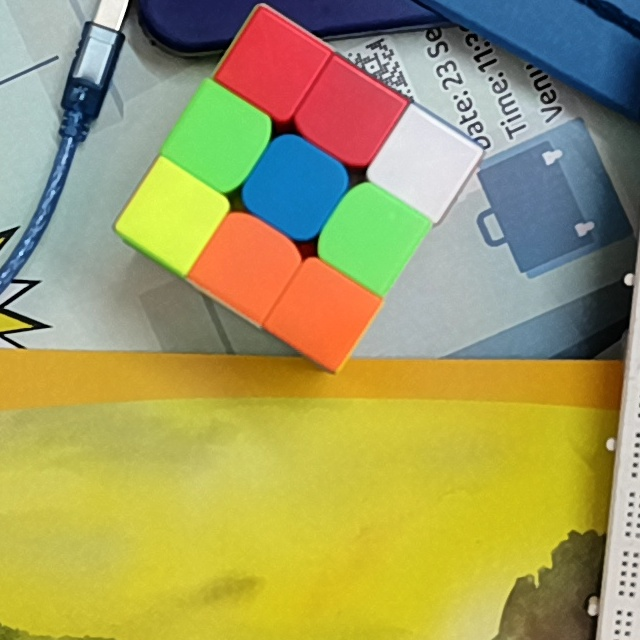tile: (341, 206, 402, 267), (262, 160, 324, 219), (317, 85, 377, 145), (215, 235, 276, 294), (191, 108, 253, 166), (291, 287, 354, 343), (394, 134, 452, 194), (243, 36, 303, 93), (146, 183, 201, 244)
